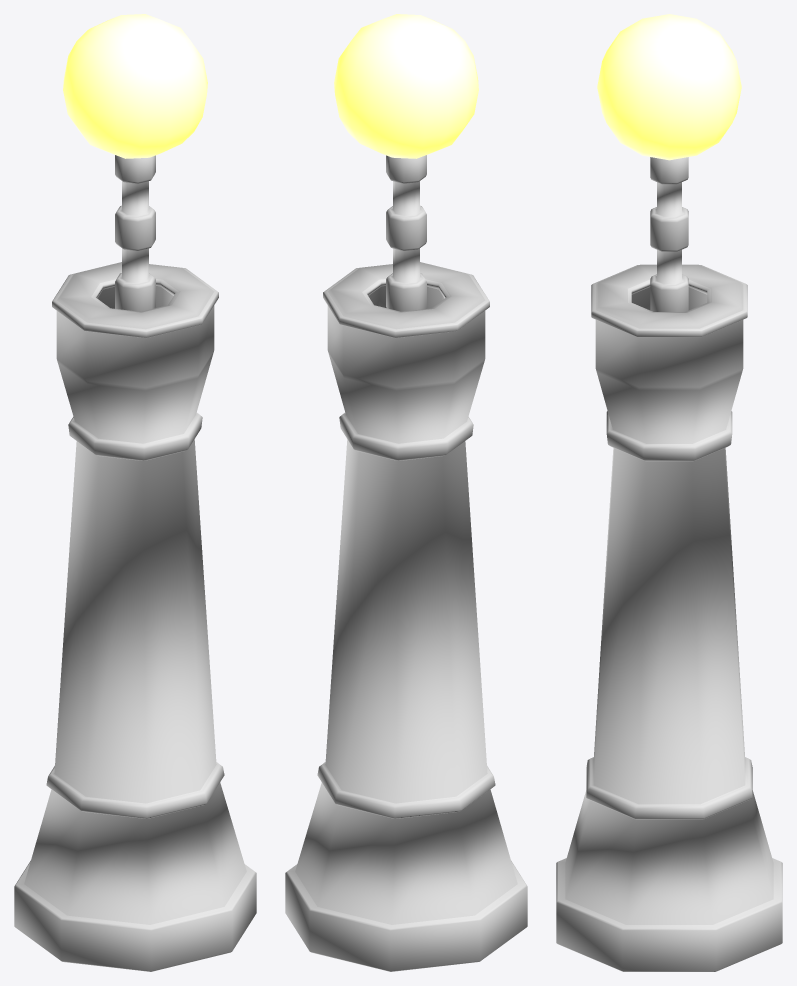
The model's file is Lamp.fbx.
3 views of the same model, side by side, from view 1: azimuth 30°, elevation 25°; view 2: azimuth 150°, elevation 25°; view 3: azimuth 270°, elevation 25° (orthographic).
Parts seen in each view (by area): view 1: Carcas, Lamp; view 2: Carcas, Lamp; view 3: Carcas, Lamp.
Part boxes in pixels (x1,y1,x2,y2): Carcas: [14, 155, 256, 971]; Lamp: [63, 14, 207, 158]; Carcas: [285, 155, 527, 971]; Lamp: [334, 14, 478, 158]; Carcas: [556, 157, 782, 971]; Lamp: [597, 14, 741, 160].
Size of the model in its own units: 10.64 by 46.85 by 10.64.
